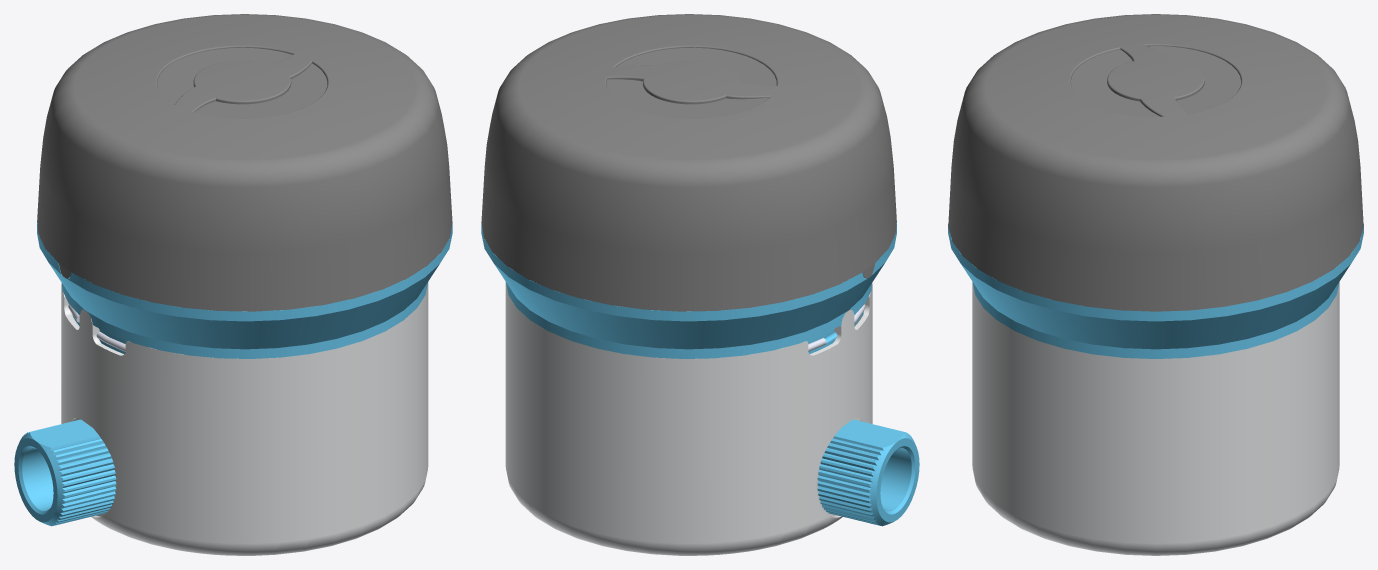
File: pingsonar.dae
3 views of the same model, side by side, from view 1: azimuth 30°, elevation 25°; view 2: azimuth 150°, elevation 25°; view 3: azimuth 270°, elevation 25° (orthographic).
Parts seen in each view (by area): view 1: PING360-SONAR-R1-PUBLIC; view 2: PING360-SONAR-R1-PUBLIC; view 3: PING360-SONAR-R1-PUBLIC.
Part boxes in pixels (<box>): PING360-SONAR-R1-PUBLIC: <box>14,14,452,555</box>; PING360-SONAR-R1-PUBLIC: <box>481,14,919,555</box>; PING360-SONAR-R1-PUBLIC: <box>948,14,1363,555</box>.
Size of the model in its own units: 0.0831 by 0.077 by 0.083.
